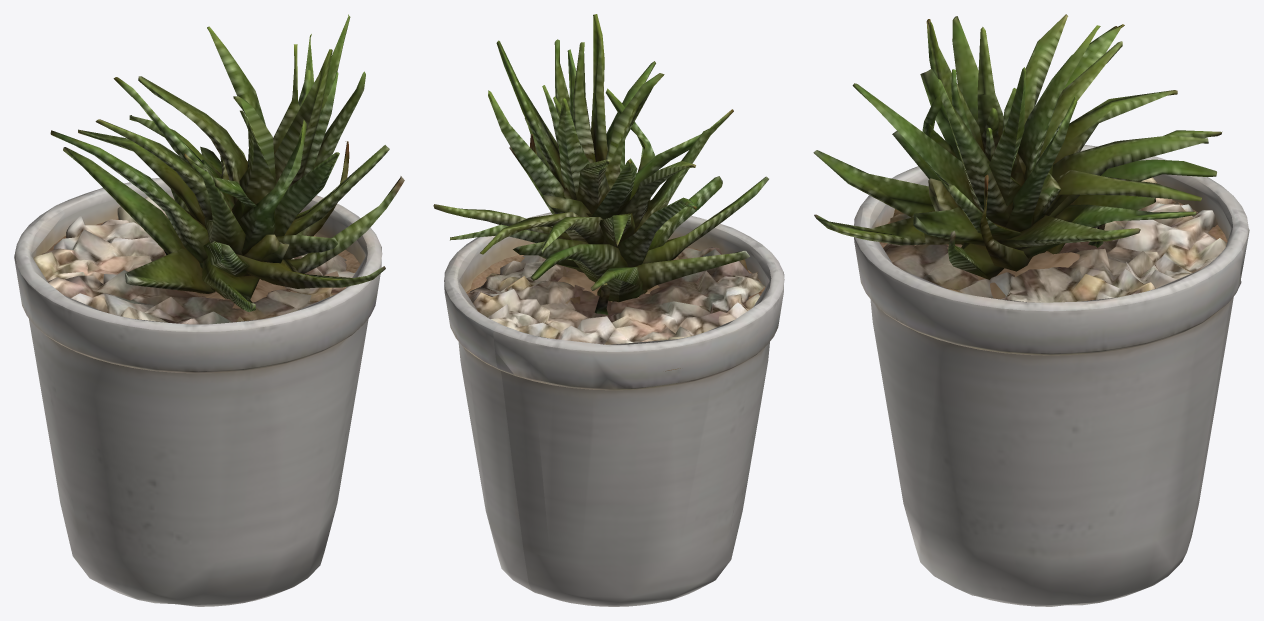
Rendered from PottedSucculent.obj.
The picture shows the model from 3 angles, left to right: view 1: azimuth 30°, elevation 25°; view 2: azimuth 150°, elevation 25°; view 3: azimuth 270°, elevation 25°; orthographic projection. The views are drawn at different scales.
Visible parts, largest first — view 1: Plant; view 2: Plant; view 3: Plant.
Part boxes in pixels (box(x1,y1,x2,y2)): Plant: box(14, 14, 404, 606); Plant: box(433, 14, 784, 606); Plant: box(813, 14, 1249, 606).
Bounding box in the file's own units: 0.1672 × 0.2675 × 0.1844.
1 material, 1 textured.
